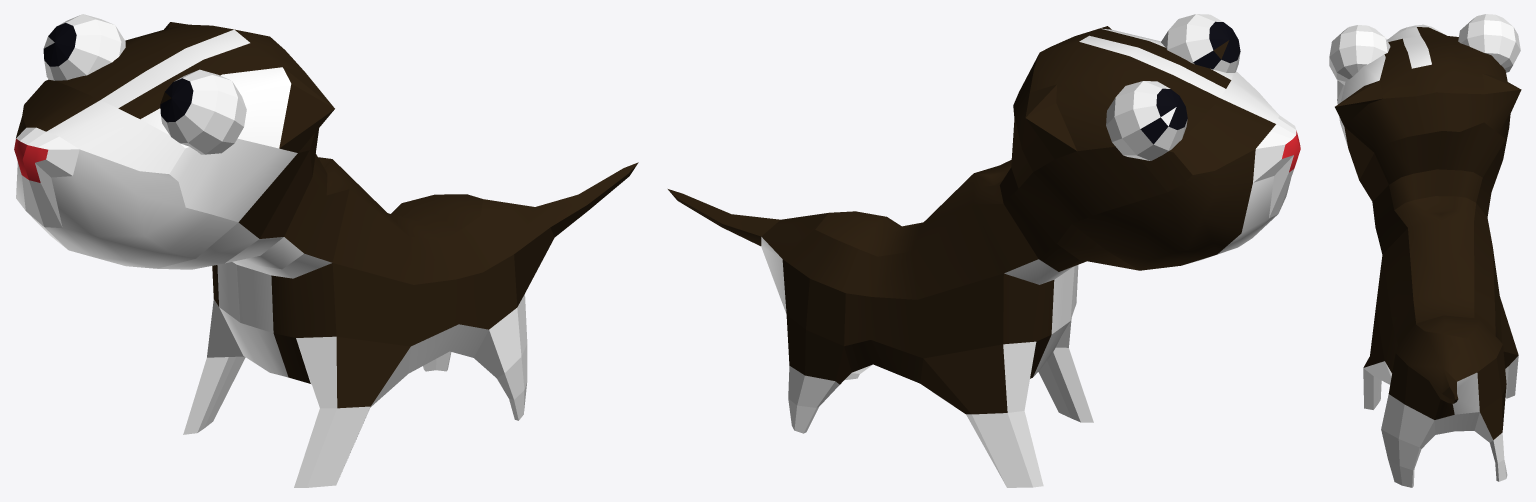
Rendered from CHAR_Pitbull.FBX.
3 views of the same model, side by side, from view 1: azimuth 30°, elevation 25°; view 2: azimuth 150°, elevation 25°; view 3: azimuth 270°, elevation 25° (orthographic). The views are drawn at different scales.
Visible parts, largest first — view 1: Sphere006; view 2: Sphere006; view 3: Sphere006.
Part boxes in pixels (x1=…): Sphere006: x1=14, y1=14, x2=638, y2=487; Sphere006: x1=668, y1=14, x2=1300, y2=487; Sphere006: x1=1329, y1=14, x2=1521, y2=487.
Size of the model in its own units: 98.81 by 65.45 by 34.45.
